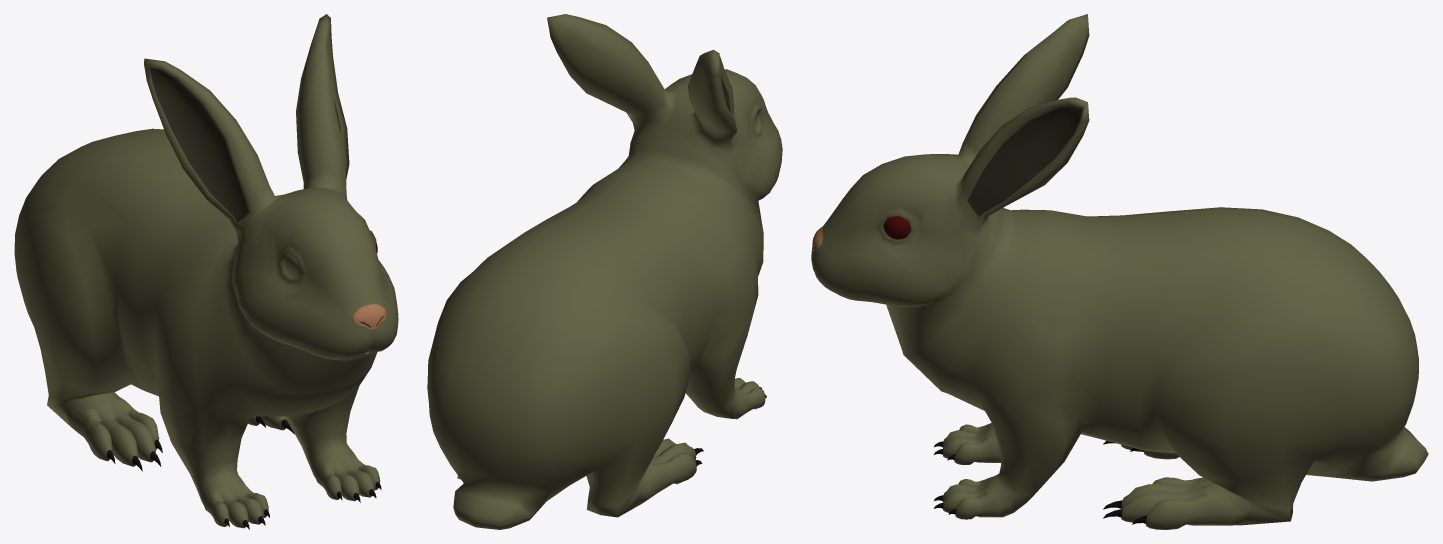
File: rabbit.obj
3 views of the same model, side by side, from view 1: azimuth 30°, elevation 25°; view 2: azimuth 150°, elevation 25°; view 3: azimuth 270°, elevation 25° (orthographic). The views are drawn at different scales.
Parts seen in each view (by area): view 1: rabbit; view 2: rabbit; view 3: rabbit.
Boxes of the visible parts, x1,y1,x2,y2 form: rabbit: (14,14,398,529); rabbit: (427,14,782,529); rabbit: (811,14,1428,529).
Size of the model in its own units: 0.2045 by 0.3584 by 0.4715.
